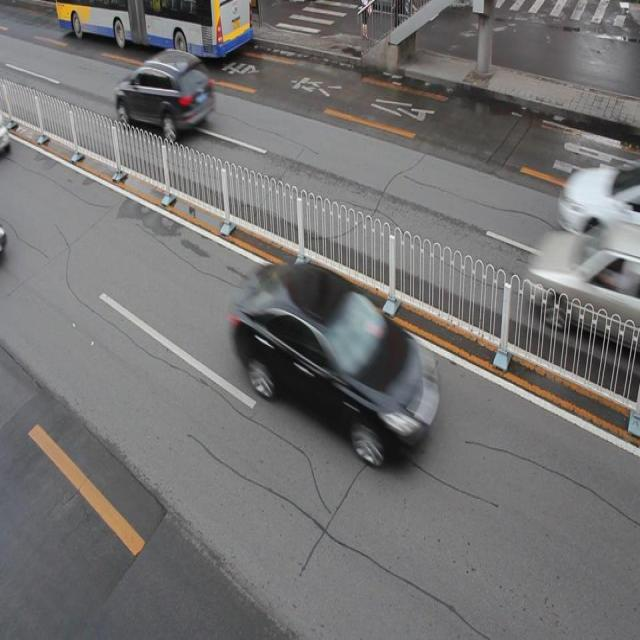car: (233, 257, 437, 459), (530, 225, 640, 346), (115, 47, 214, 140), (557, 162, 640, 246)
van: (56, 1, 252, 56)
